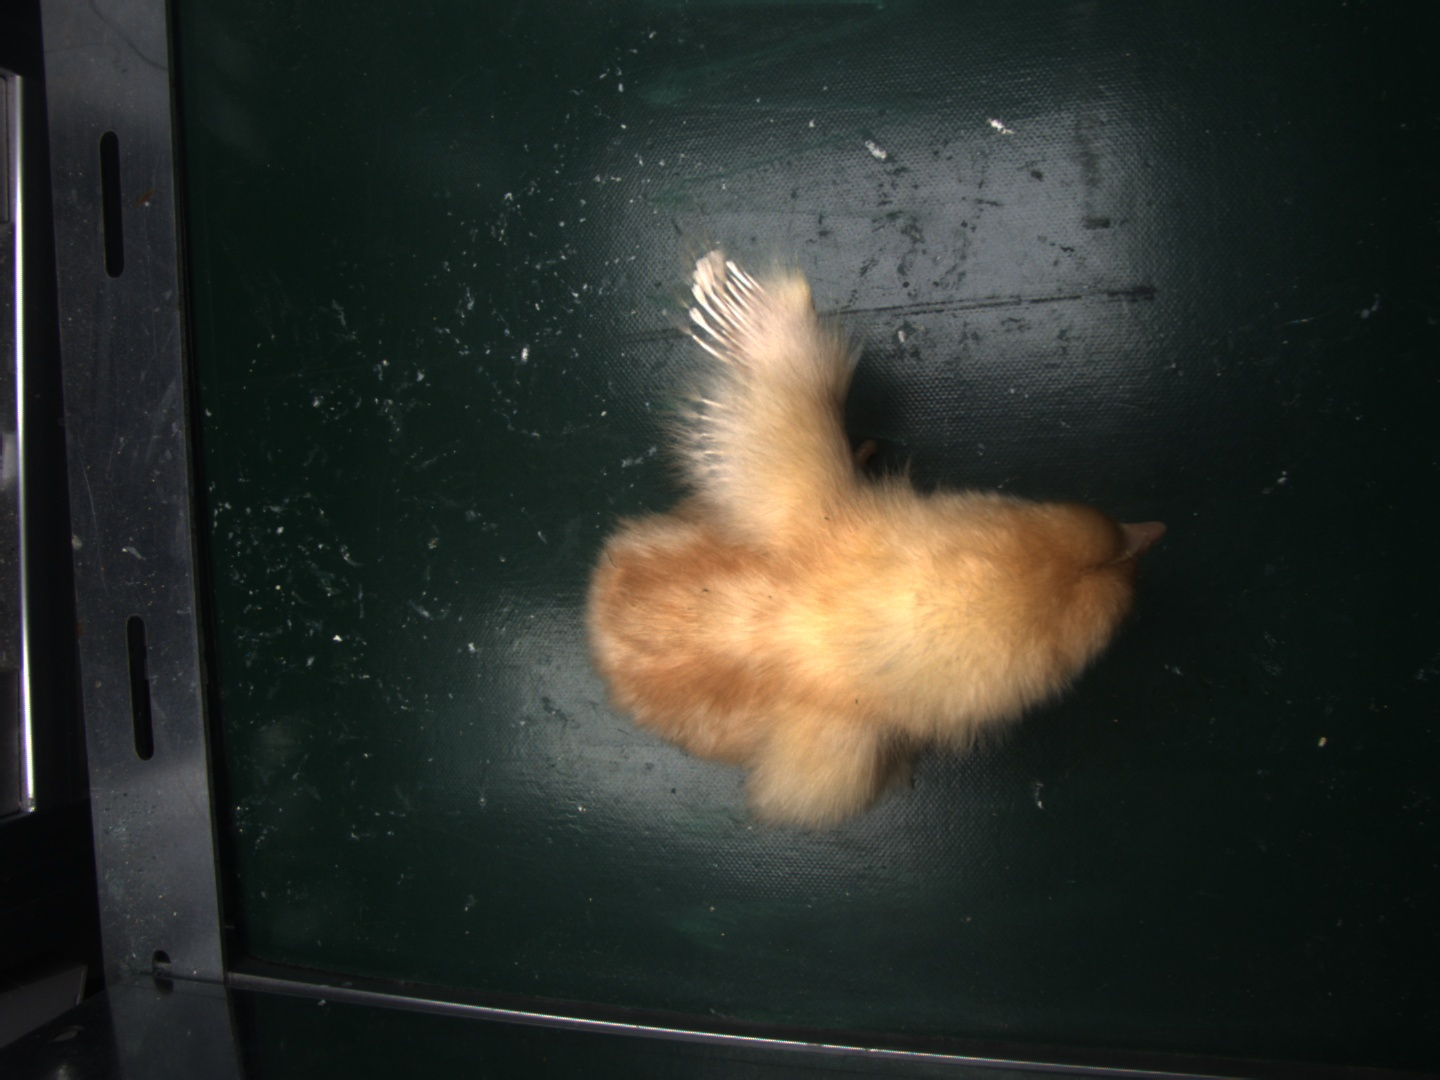female: (686, 248, 768, 362)
